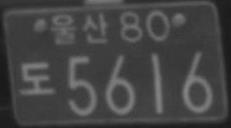0: (145, 10, 170, 41)
1: (142, 51, 174, 112)
5: (67, 54, 96, 116)
6: (181, 50, 214, 114), (104, 54, 135, 115)
8: (118, 10, 143, 43)
도: (18, 60, 55, 96)
울산_O: (51, 12, 109, 44)
